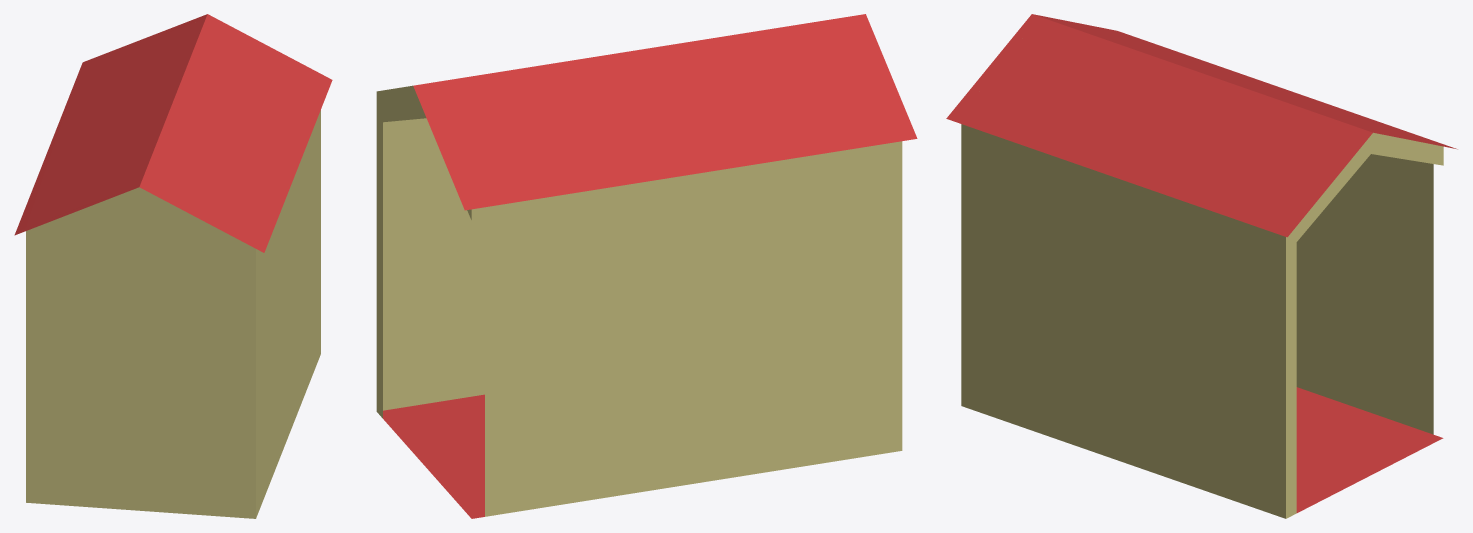
3 views of the same model, side by side, from view 1: azimuth 30°, elevation 25°; view 2: azimuth 150°, elevation 25°; view 3: azimuth 270°, elevation 25° (orthographic). The views are drawn at different scales.
Parts seen in each view (by area): view 1: group_5, group_3, group_4; view 2: group_5, group_3, group_6, group_4; view 3: group_5, group_3, group_6, group_4.
Boxes of the visible parts, <box> form: group_5: <box>26,110,320,518</box>; group_3: <box>26,14,320,243</box>; group_4: <box>14,14,332,252</box>; group_5: <box>376,85,902,516</box>; group_3: <box>413,14,902,210</box>; group_6: <box>383,394,484,518</box>; group_4: <box>413,15,917,209</box>; group_5: <box>961,124,1443,518</box>; group_3: <box>962,14,1457,225</box>; group_6: <box>1296,387,1443,512</box>; group_4: <box>946,14,1429,237</box>.
Size of the model in its own units: 22.63 by 23.72 by 17.81.
